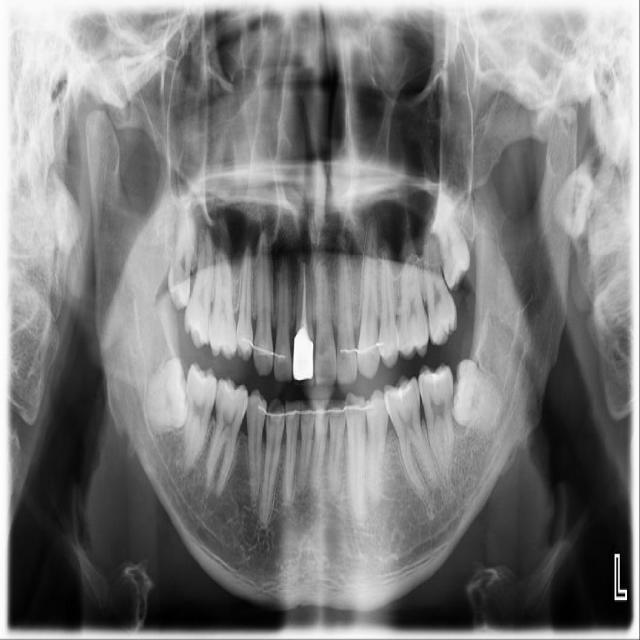3M ESPE Implant: (164, 207, 198, 312)
52: (293, 335, 315, 386)
73: (294, 258, 314, 341), (588, 576, 595, 584)
BioHorizons Implant: (418, 223, 460, 348)
BioLife Implant: (429, 186, 476, 292)
Biomet 3i Implant: (444, 355, 513, 436)
Blue Sky Bio Implant: (416, 361, 464, 484)
Caries: (180, 228, 222, 351)
Implant: (179, 360, 220, 477)
Keystone Dental Implant: (139, 356, 192, 432)
